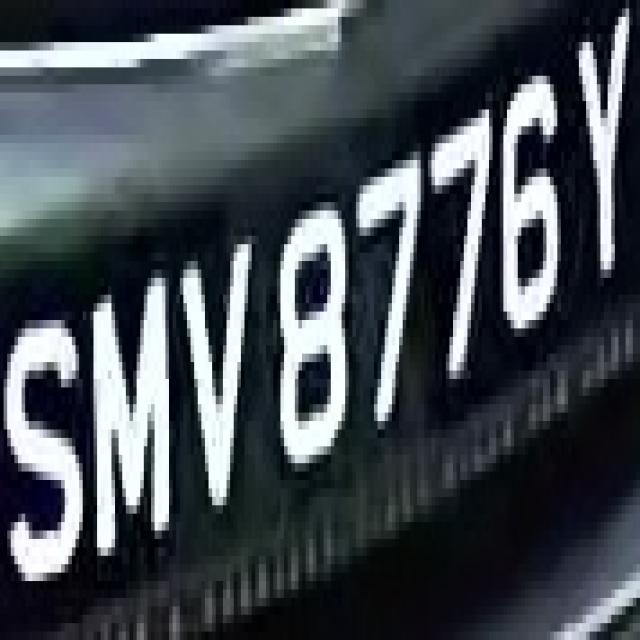6: (493, 59, 568, 362)
7: (413, 67, 500, 413), (349, 135, 428, 480)
8: (277, 177, 363, 488)
M: (86, 244, 180, 573)
S: (7, 286, 83, 606)
V: (165, 228, 266, 530)
Y: (571, 8, 640, 294)
